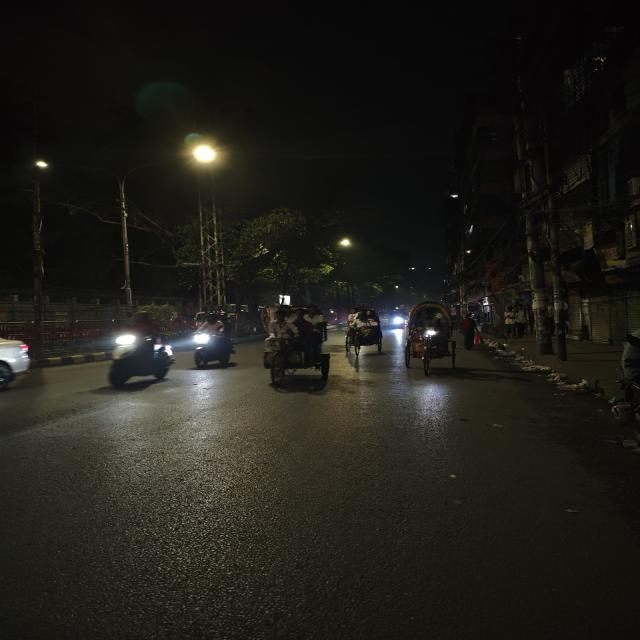motorcycle: (83, 314, 182, 393), (180, 314, 238, 366)
pedestrian: (457, 309, 481, 352)
rickshaw: (259, 302, 330, 388), (332, 299, 390, 370), (403, 306, 457, 374)
